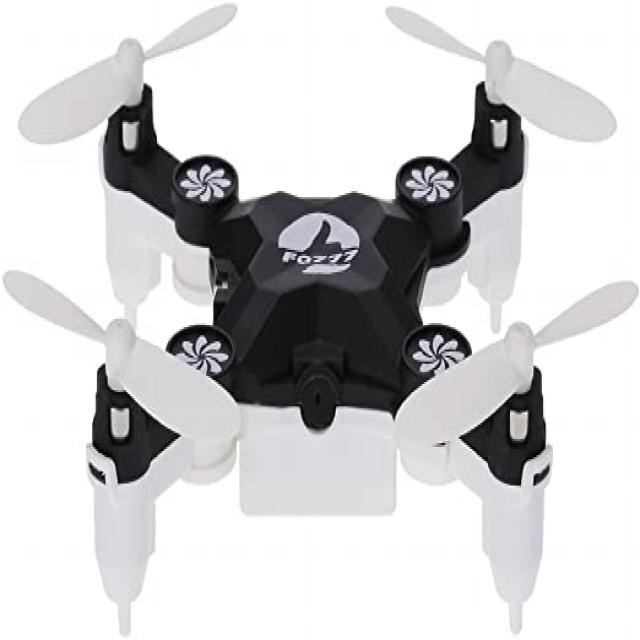drones: (0, 0, 638, 640)
